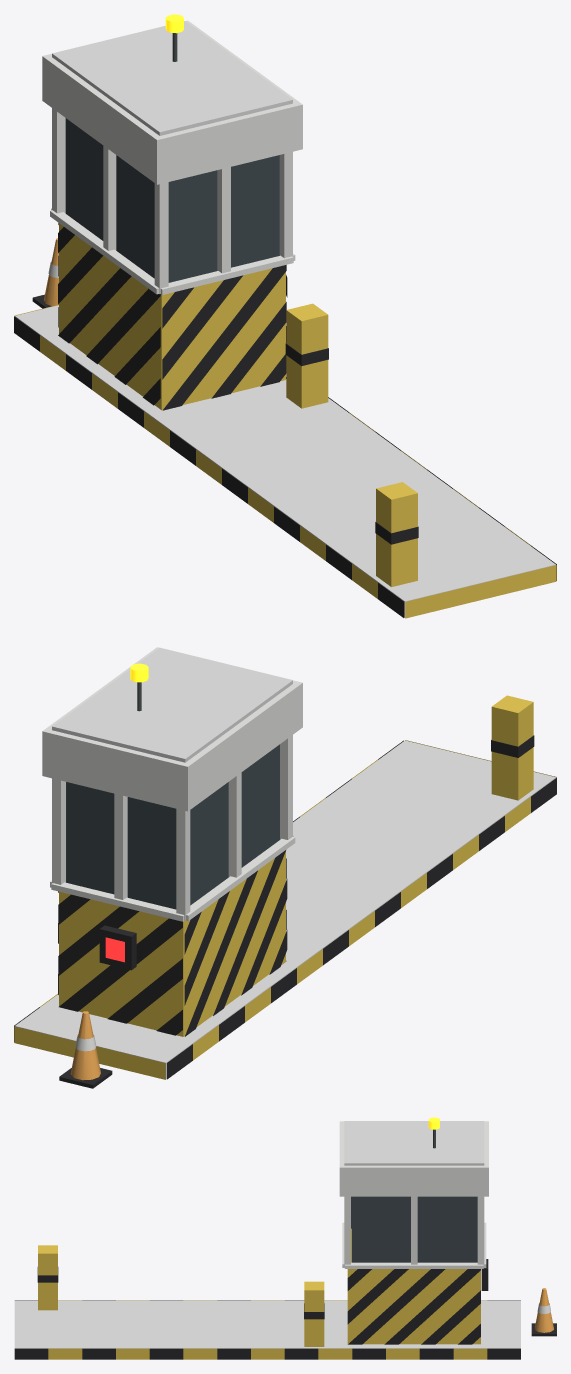
Rendered from guard_booth.glb.
3 renders of one model, top to bottom at view 1: azimuth 30°, elevation 25°; view 2: azimuth 150°, elevation 25°; view 3: azimuth 270°, elevation 25°, orthographic. The views are drawn at different scales.
Visible parts, largest first — view 1: guard_booth; view 2: guard_booth; view 3: guard_booth.
Boxes of the visible parts, x1,y1,x2,y2 form: guard_booth: (14, 14, 556, 618); guard_booth: (14, 647, 556, 1088); guard_booth: (14, 1117, 556, 1359).
Bounding box in the file's own units: 1.72 × 3.66 × 8.15.
